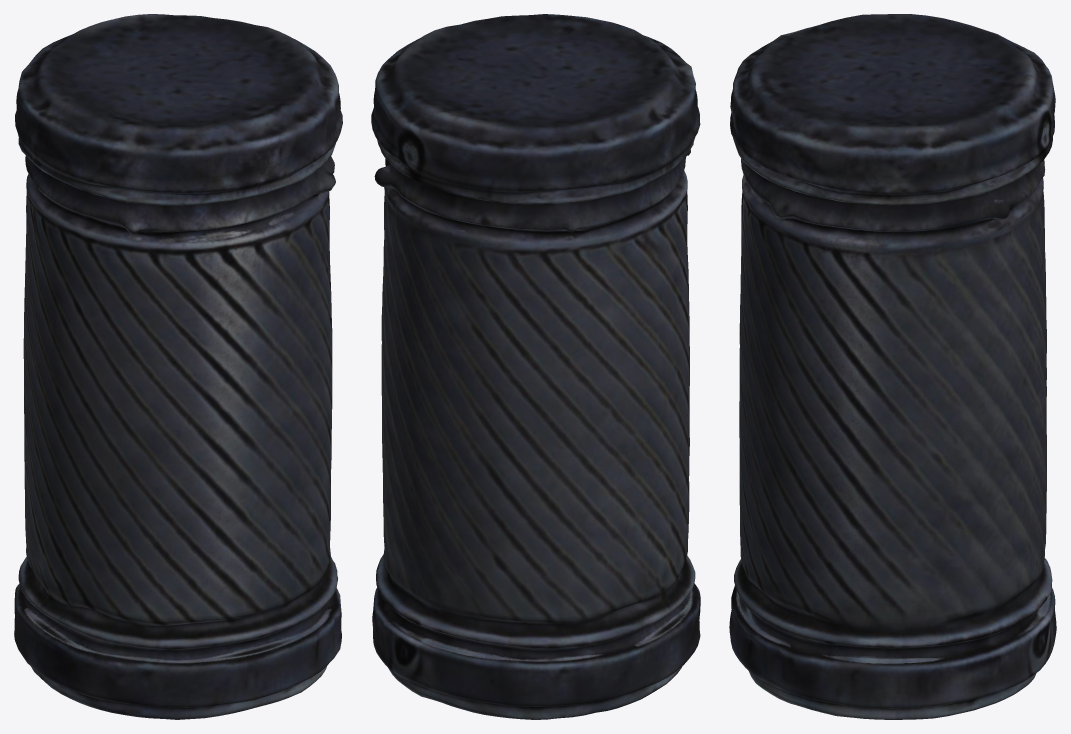
File: 5332466b9a91_metal_cylinder_min.fbx
3 views of the same model, side by side, from view 1: azimuth 30°, elevation 25°; view 2: azimuth 150°, elevation 25°; view 3: azimuth 270°, elevation 25° (orthographic).
Parts seen in each view (by area): view 1: mesh; view 2: mesh; view 3: mesh.
Part boxes in pixels (box(x1,y1,x2,y2)): mesh: box(14, 14, 342, 719); mesh: box(371, 14, 700, 719); mesh: box(729, 14, 1056, 719).
Bounding box in the file's own units: 50.41 × 99.91 × 50.29.
